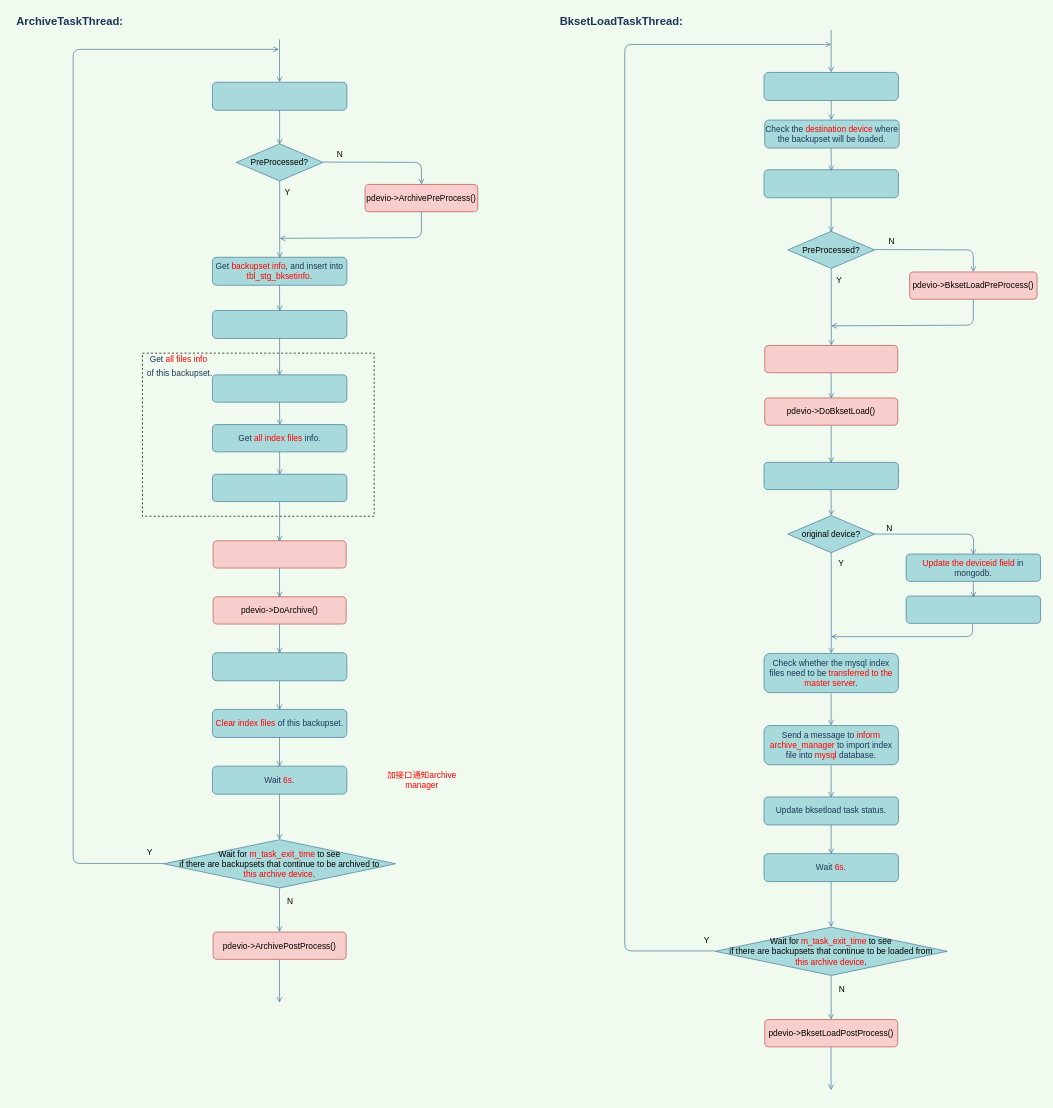
Some shapes in this 1053 by 1108 pixel diagram are drawn without their labels. The shapes that lost their labels are listed below. From the top down, each one's centre as x and y in pixels, then its label:
At (x=279, y=96): "Get archive task info.".
At (x=830, y=86): "Get bksetload task info.".
At (x=830, y=183): "Create a temporary directory for storing index files of this backupset.".
At (x=279, y=324): "Get all objs info of this backupset.".
At (x=831, y=359): "pdevio->ReadBksetInfo".
At (x=279, y=388): "generate index files from mongodb".
At (x=279, y=488): "Get all data files info.".
At (x=830, y=476): "Import index file into mongodb database.".
At (x=279, y=554): "pdevio->WriteBksetInfo()".
At (x=973, y=609): "Clear old data files .".
At (x=279, y=666): "Update archive task status.".
